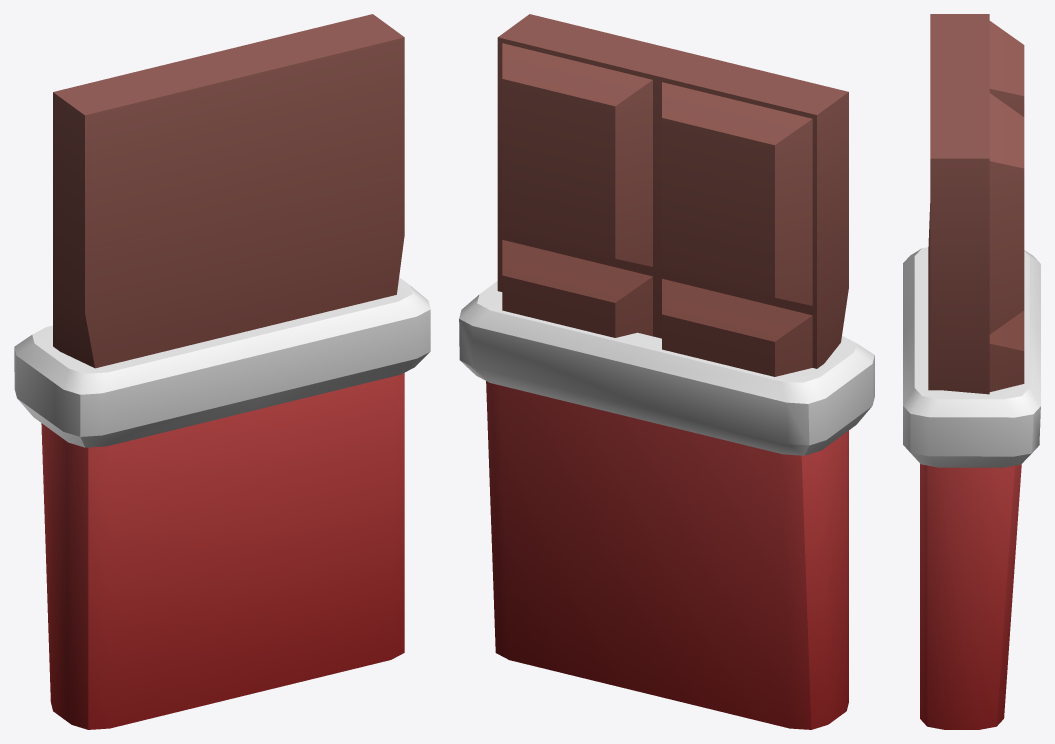
File: Chocolate.fbx
3 renders of one model, left to right at view 1: azimuth 30°, elevation 25°; view 2: azimuth 150°, elevation 25°; view 3: azimuth 270°, elevation 25°, orthographic. The views are drawn at different scales.
Visible parts, largest first — view 1: Chocolate; view 2: Chocolate; view 3: Chocolate.
Boxes of the visible parts, bbox=[...] form: Chocolate: bbox=[14, 14, 430, 729]; Chocolate: bbox=[459, 14, 874, 729]; Chocolate: bbox=[903, 14, 1040, 729].
Bounding box in the file's own units: 11.74 × 18.86 × 4.14.
